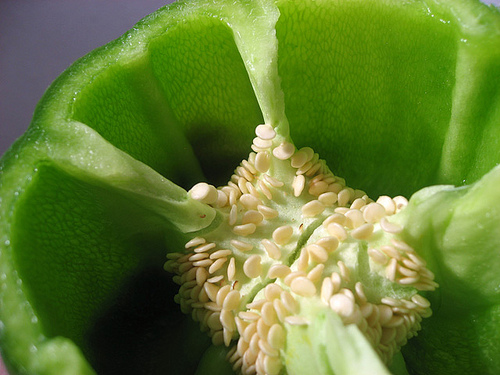capsicum: (1, 0, 499, 374)
